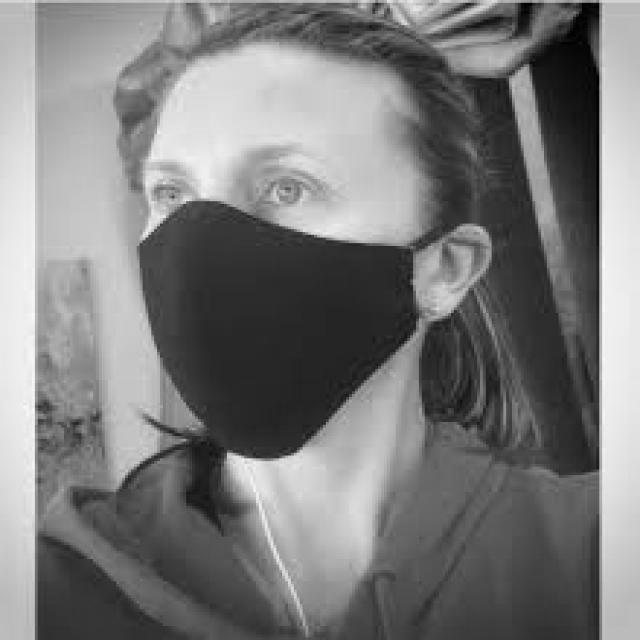fake: (134, 198, 424, 462)
real: (140, 49, 417, 467)
